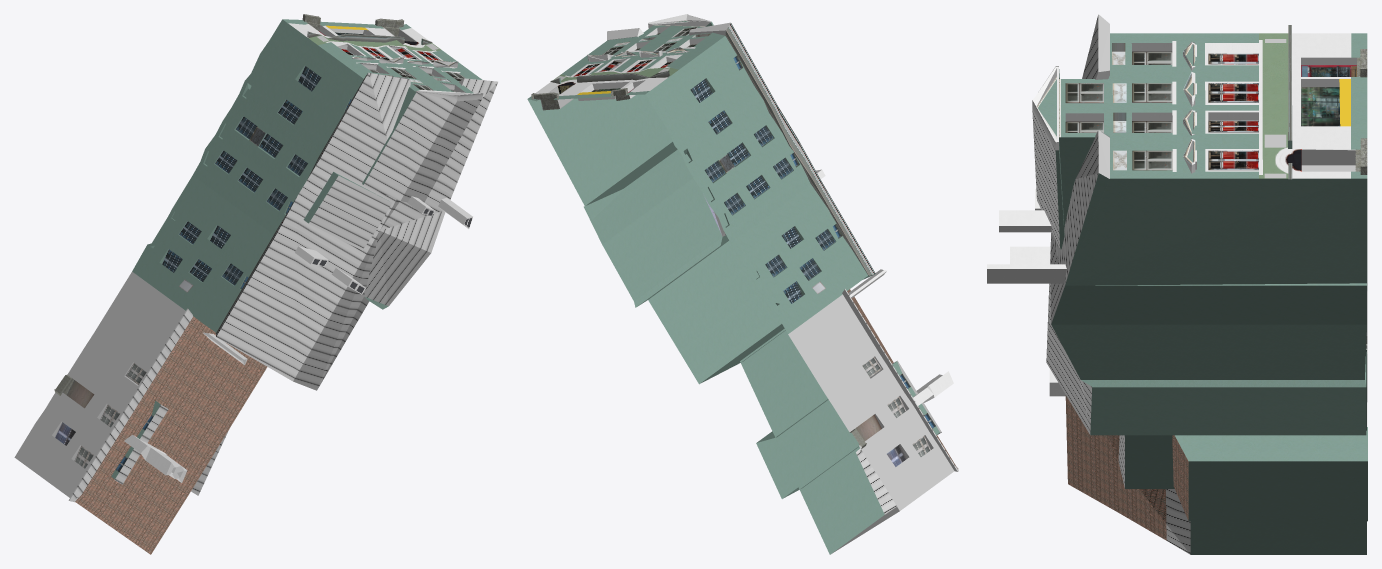
The model's file is Sauna_12-origo.obj.
The picture shows the model from 3 angles, left to right: view 1: azimuth 30°, elevation 25°; view 2: azimuth 150°, elevation 25°; view 3: azimuth 270°, elevation 25°; orthographic projection. The views are drawn at different scales.
Visible parts, largest first — view 1: sauna12; view 2: sauna12; view 3: sauna12.
Boxes of the visible parts, <box> form: sauna12: <box>14,14,497,554</box>; sauna12: <box>527,14,958,554</box>; sauna12: <box>987,14,1367,554</box>.
Bounding box in the file's own units: 35.88 × 38.5 × 19.44.
